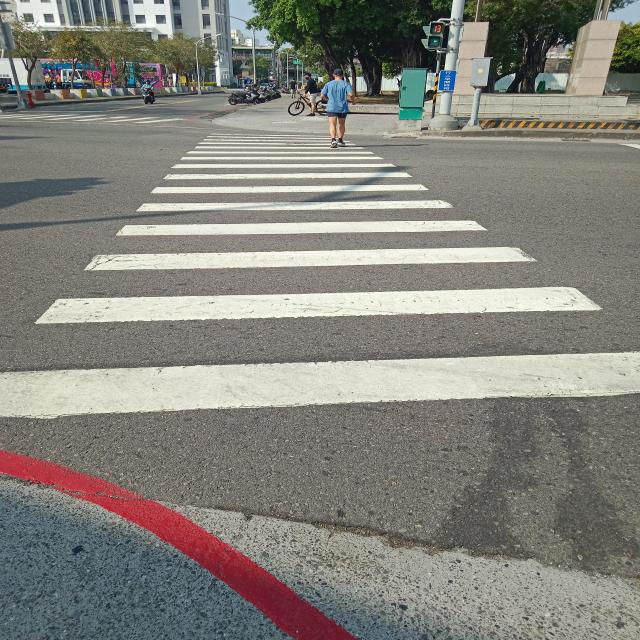person: (322, 69, 357, 148), (302, 72, 320, 115), (288, 80, 297, 99)
zebra crossing: (0, 132, 639, 420)
